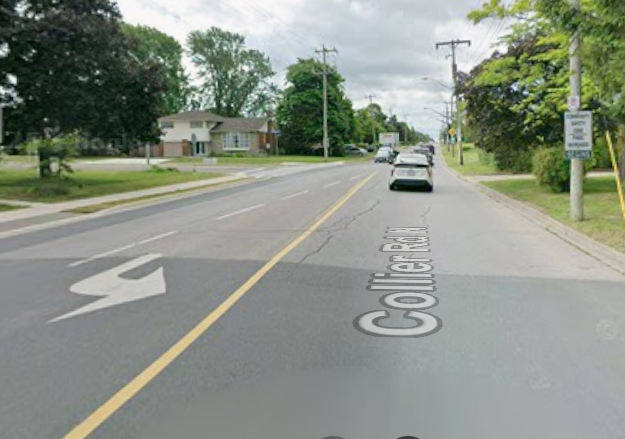cracks: (287, 199, 383, 275), (406, 204, 440, 259)
